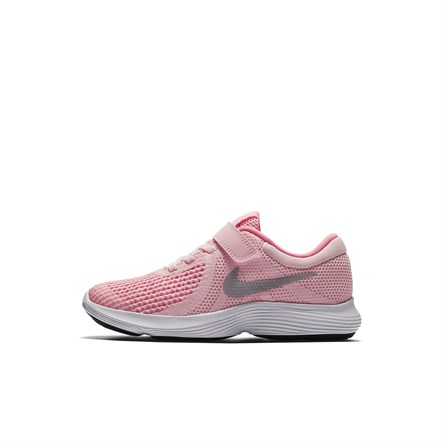nike: (221, 264, 320, 297)
